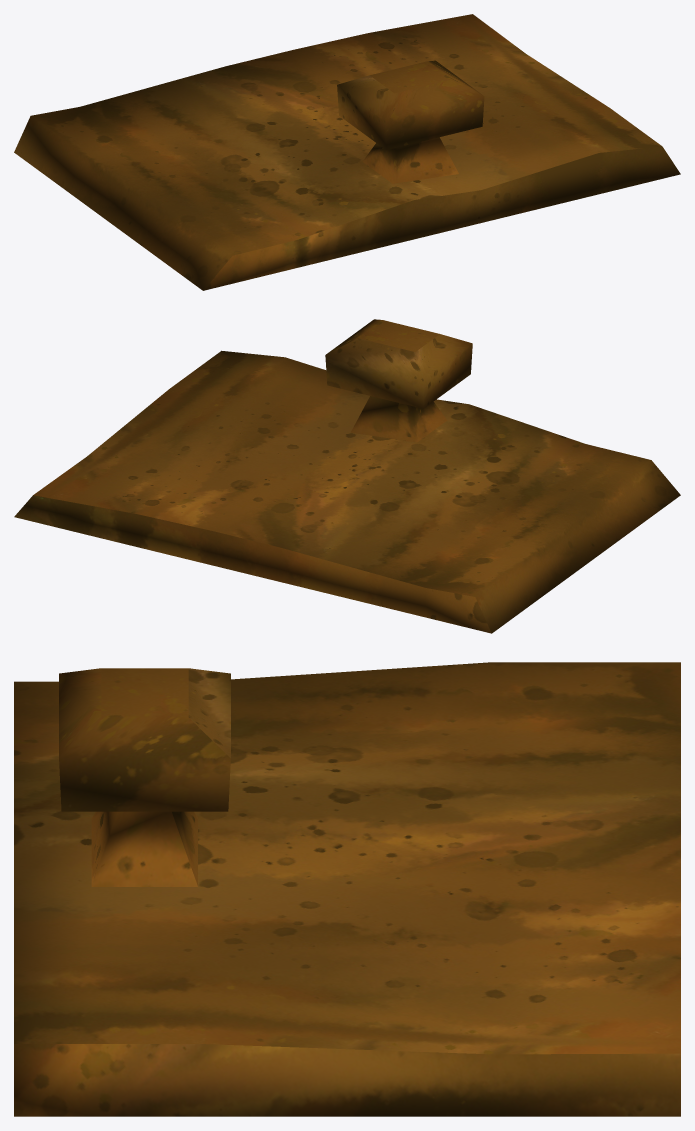
Rendered from Floor_Hach.obj.
3 renders of one model, top to bottom at view 1: azimuth 30°, elevation 25°; view 2: azimuth 150°, elevation 25°; view 3: azimuth 270°, elevation 25°, orthographic. The views are drawn at different scales.
Parts seen in each view (by area): view 1: Box001; view 2: Box001; view 3: Box001.
Boxes of the visible parts, <box> form: Box001: <box>14,14,680,290</box>; Box001: <box>14,319,680,633</box>; Box001: <box>14,662,680,1116</box>.
Bounding box in the file's own units: 38.92 × 9.85 × 26.68.
